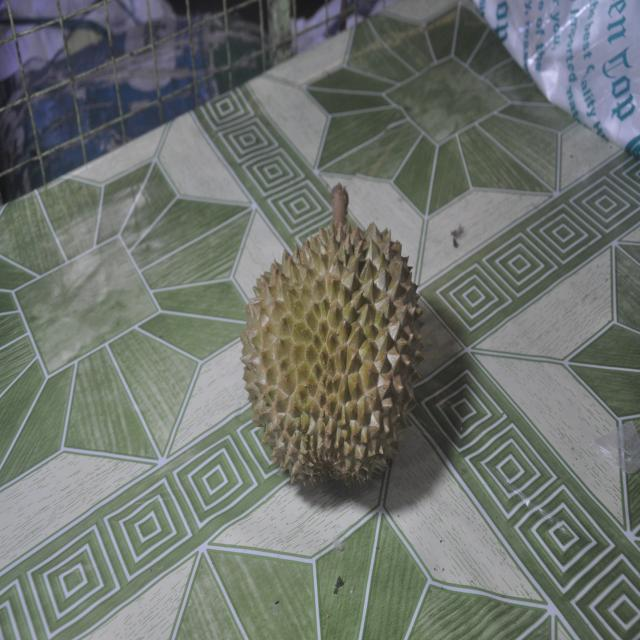mature: (241, 184, 422, 485)
